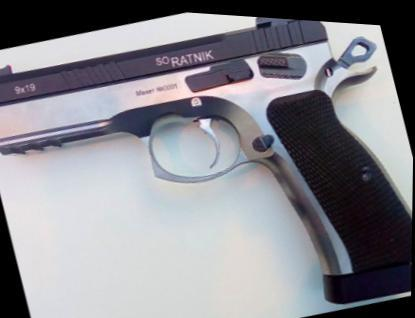pistol: (0, 0, 413, 316)
